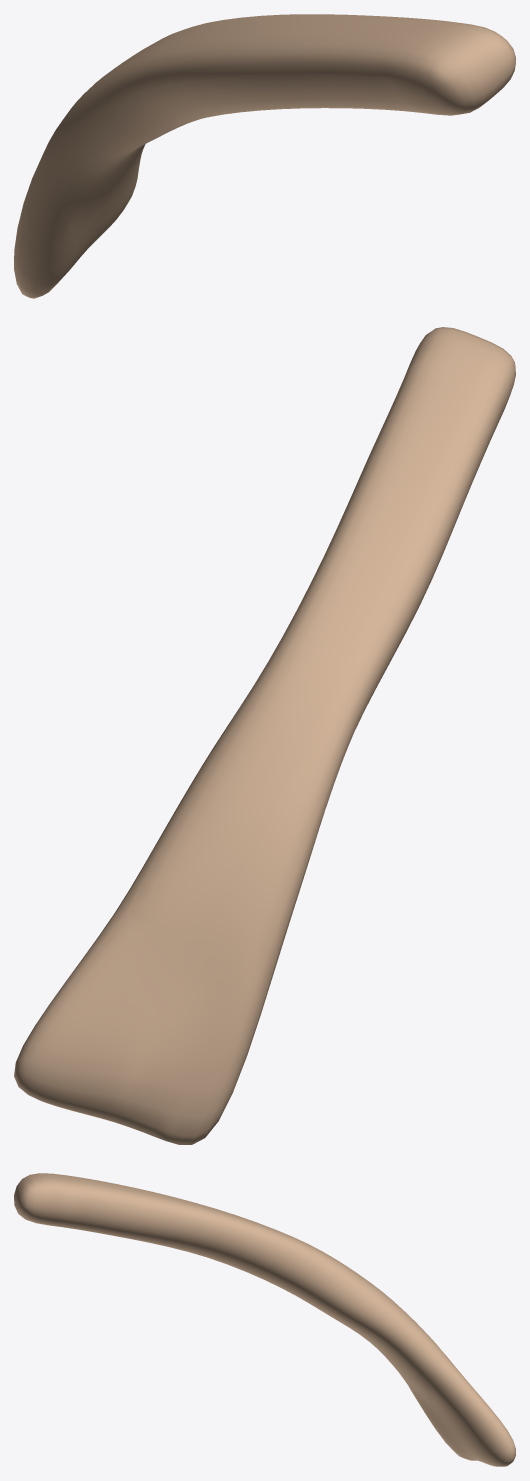
The picture shows the model from 3 angles, top to bottom: view 1: azimuth 30°, elevation 25°; view 2: azimuth 150°, elevation 25°; view 3: azimuth 270°, elevation 25°; orthographic projection. The views are drawn at different scales.
Visible parts, largest first — view 1: 左侧趾长伸肌腱鞘; view 2: 左侧趾长伸肌腱鞘; view 3: 左侧趾长伸肌腱鞘.
Part boxes in pixels (x1=…): 左侧趾长伸肌腱鞘: x1=14, y1=14, x2=515, y2=298; 左侧趾长伸肌腱鞘: x1=14, y1=327, x2=515, y2=1144; 左侧趾长伸肌腱鞘: x1=14, y1=1173, x2=515, y2=1466.
Size of the model in its own units: 0.0246 by 0.0684 by 0.1017.
